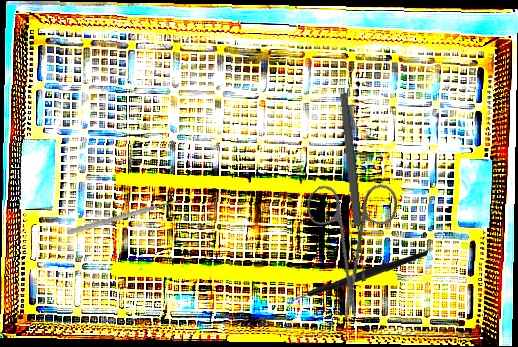Chopper: (286, 247, 428, 315)
Iris Scissors: (266, 151, 438, 323)
Pusher: (67, 197, 181, 236)
Surgical Spoon: (338, 92, 369, 283)
